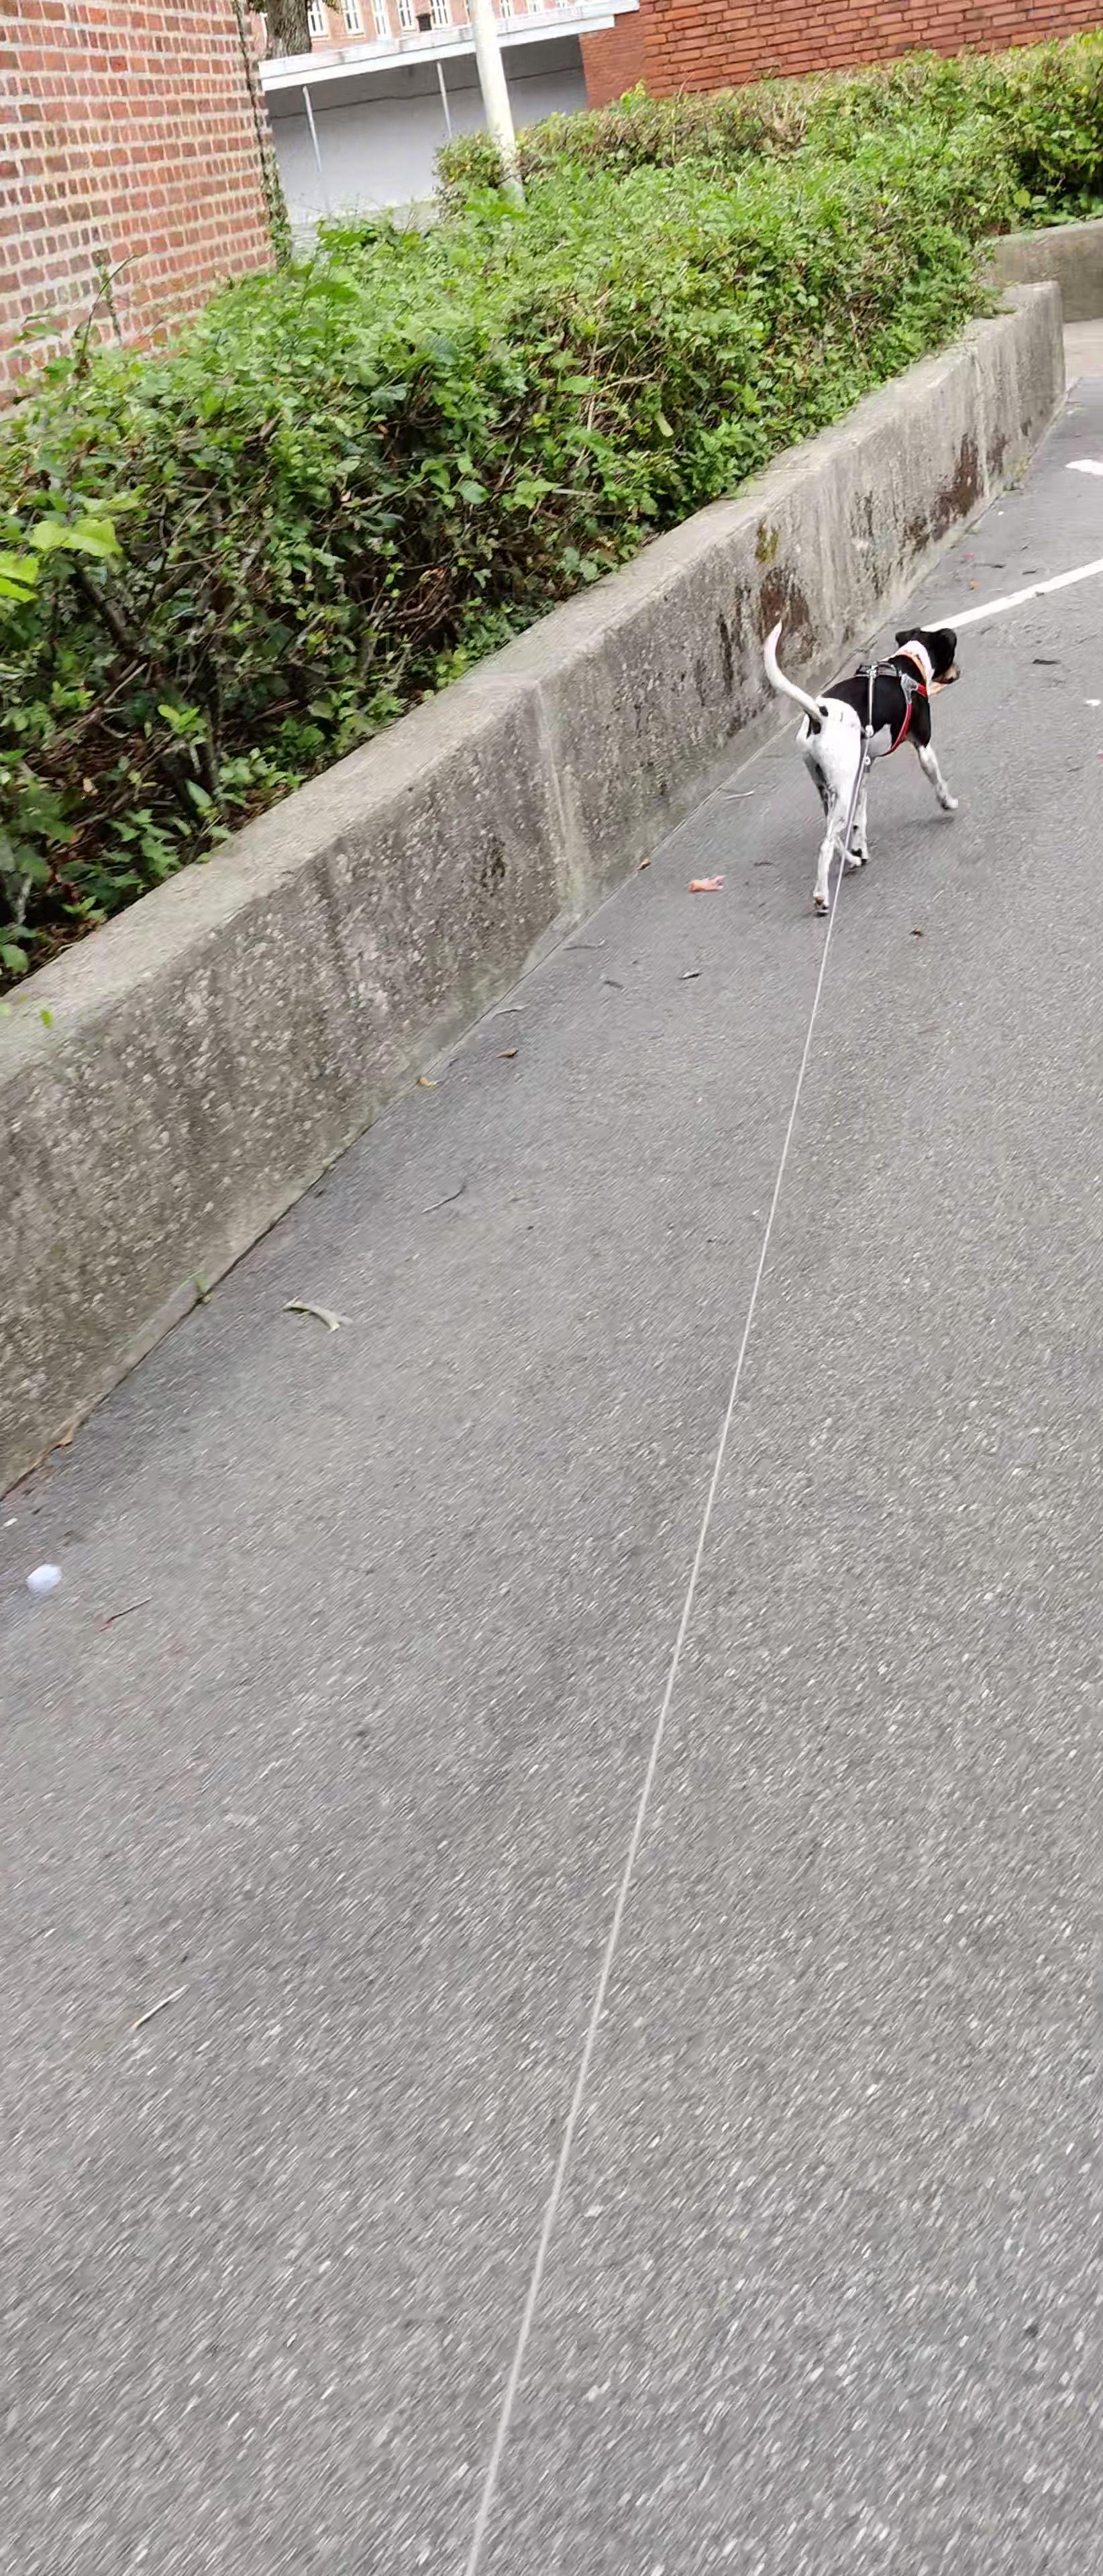Dog: (740, 614, 993, 927)
